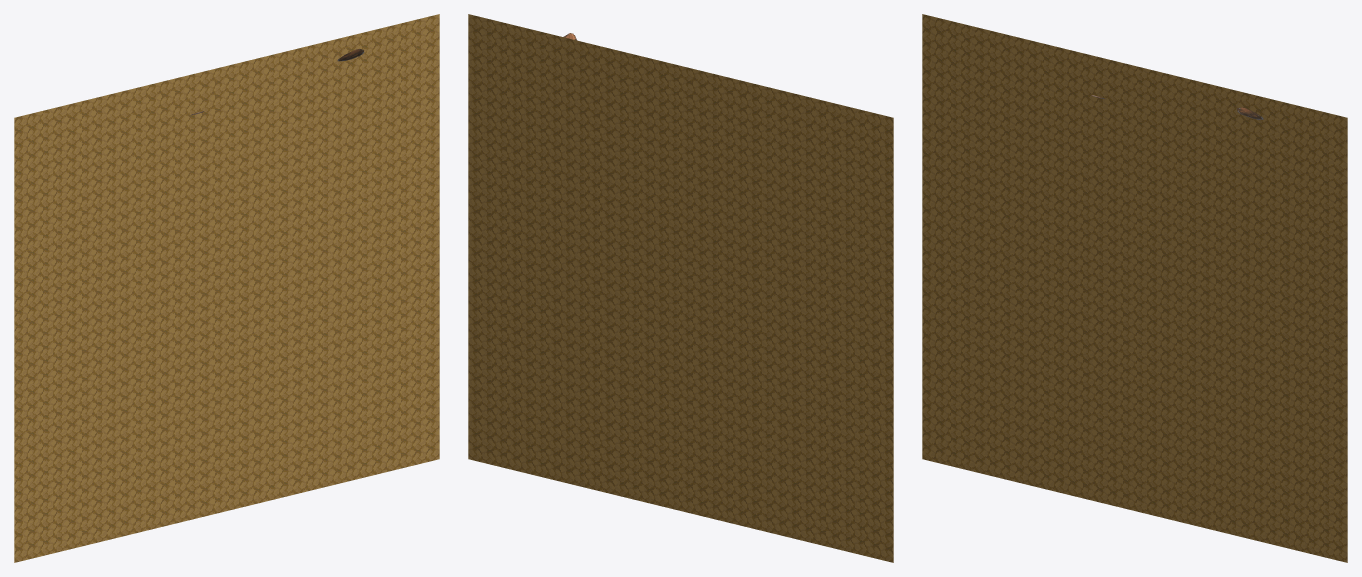
Rendered from HGRT-OW-v1_17_06.obj.
3 views of the same model, side by side, from view 1: azimuth 30°, elevation 25°; view 2: azimuth 150°, elevation 25°; view 3: azimuth 330°, elevation 25° (orthographic).
Visible parts, largest first — view 1: map; view 2: map; view 3: map.
Part boxes in pixels (<box>): map: <box>14,14,439,562</box>; map: <box>468,14,893,562</box>; map: <box>922,14,1347,562</box>.
Size of the model in its own units: 32 by 32 by 1.46.
Materials: 3 (3 with a texture image).
